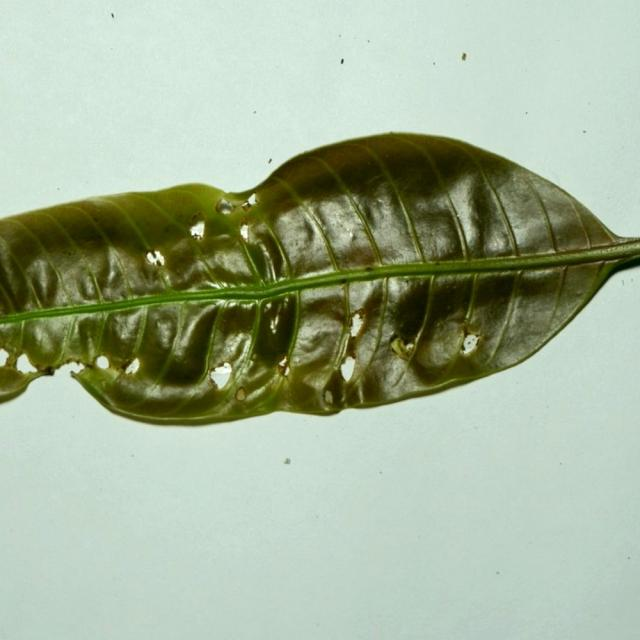Anthracnose: (294, 191, 357, 361), (92, 189, 207, 256), (2, 214, 68, 328), (468, 260, 528, 370), (341, 271, 391, 400), (146, 234, 187, 377), (469, 153, 519, 257), (450, 234, 486, 362), (333, 176, 383, 263), (403, 272, 442, 375), (516, 170, 559, 251), (535, 261, 573, 346), (274, 287, 303, 397), (300, 206, 342, 273), (0, 235, 25, 346), (195, 339, 244, 393), (199, 296, 225, 390), (83, 264, 108, 357), (238, 232, 274, 291), (125, 290, 149, 368)
Mango: (0, 133, 639, 430)
